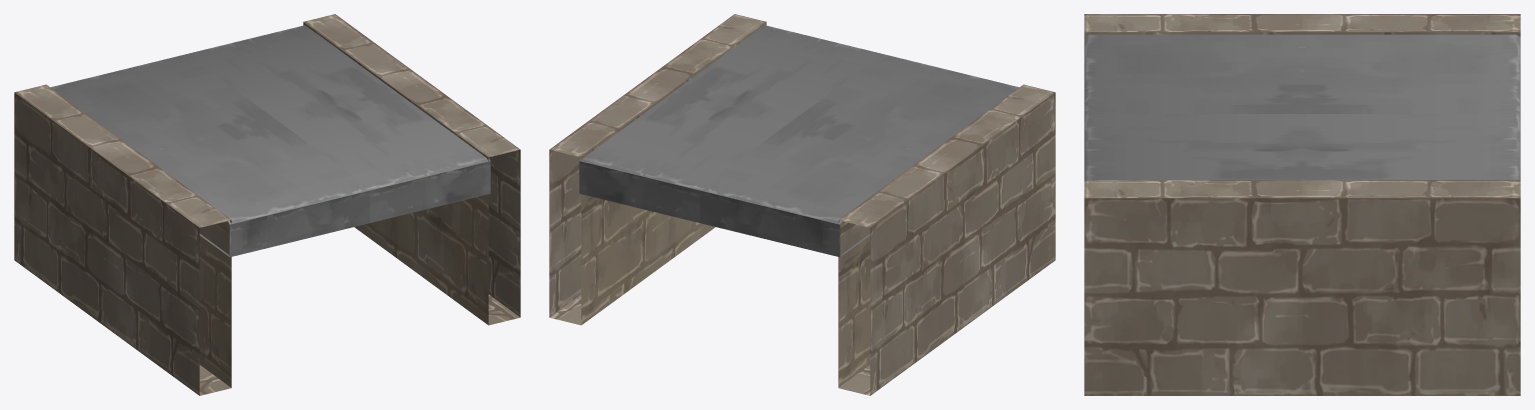
Rendered from stairs_exterior_platform.glb.
3 renders of one model, left to right at view 1: azimuth 30°, elevation 25°; view 2: azimuth 150°, elevation 25°; view 3: azimuth 270°, elevation 25°, orthographic. The views are drawn at different scales.
Size of the model in its own units: 2 by 1 by 2.
Materials: 2 (2 with a texture image).
